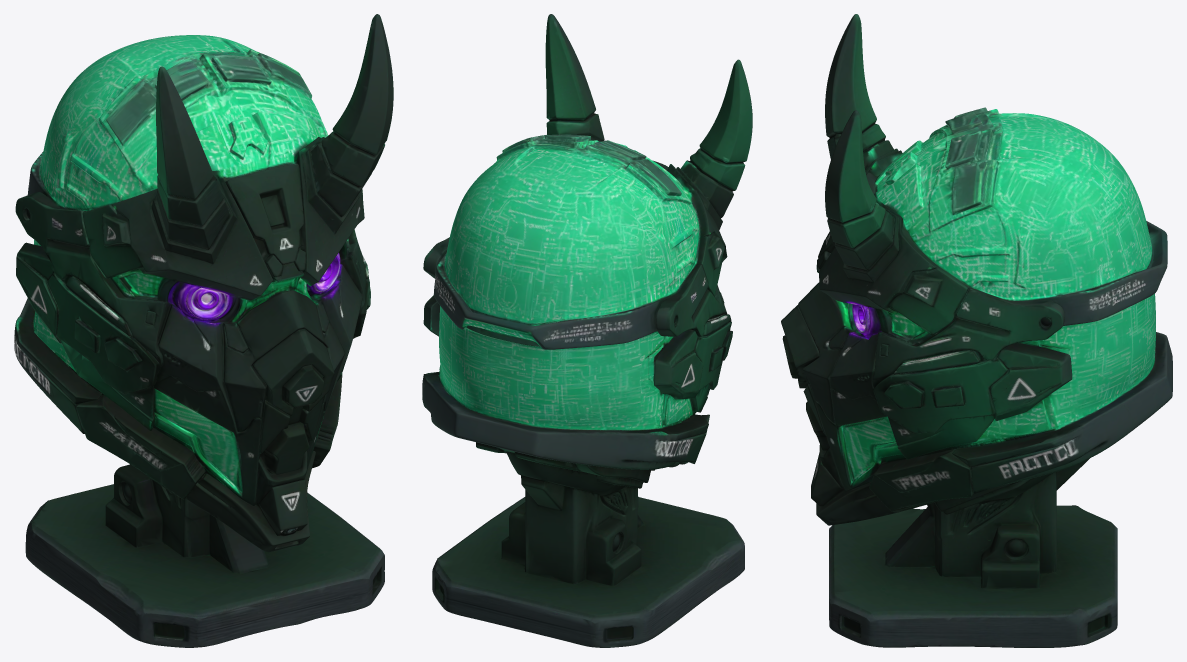
Rendered from mascara.glb.
3 views of the same model, side by side, from view 1: azimuth 30°, elevation 25°; view 2: azimuth 150°, elevation 25°; view 3: azimuth 270°, elevation 25° (orthographic). The views are drawn at different scales.
Visible parts, largest first — view 1: node_0; view 2: node_0; view 3: node_0.
Boxes of the visible parts, x1=… form: node_0: x1=14, y1=14, x2=393, y2=647; node_0: x1=422, y1=14, x2=752, y2=647; node_0: x1=781, y1=14, x2=1172, y2=647.
Bounding box in the file's own units: 0.544 × 1.04 × 0.6964.
Materials: 1 (1 with a texture image).
